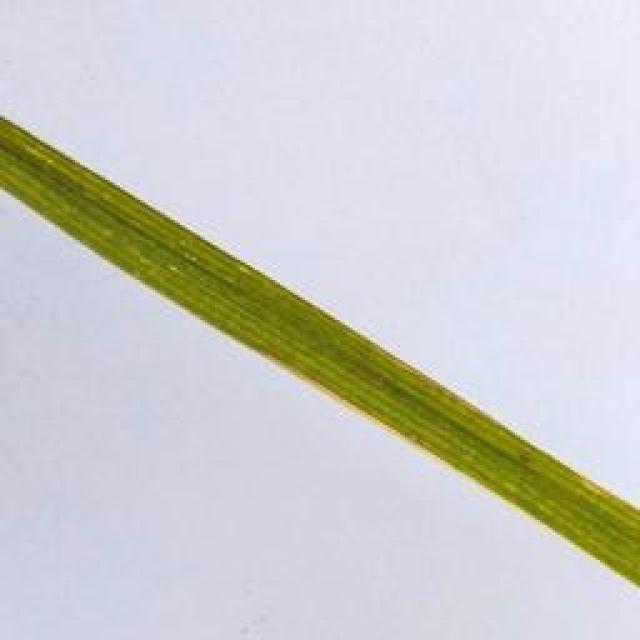Healthy-Plant: (0, 114, 640, 582)
